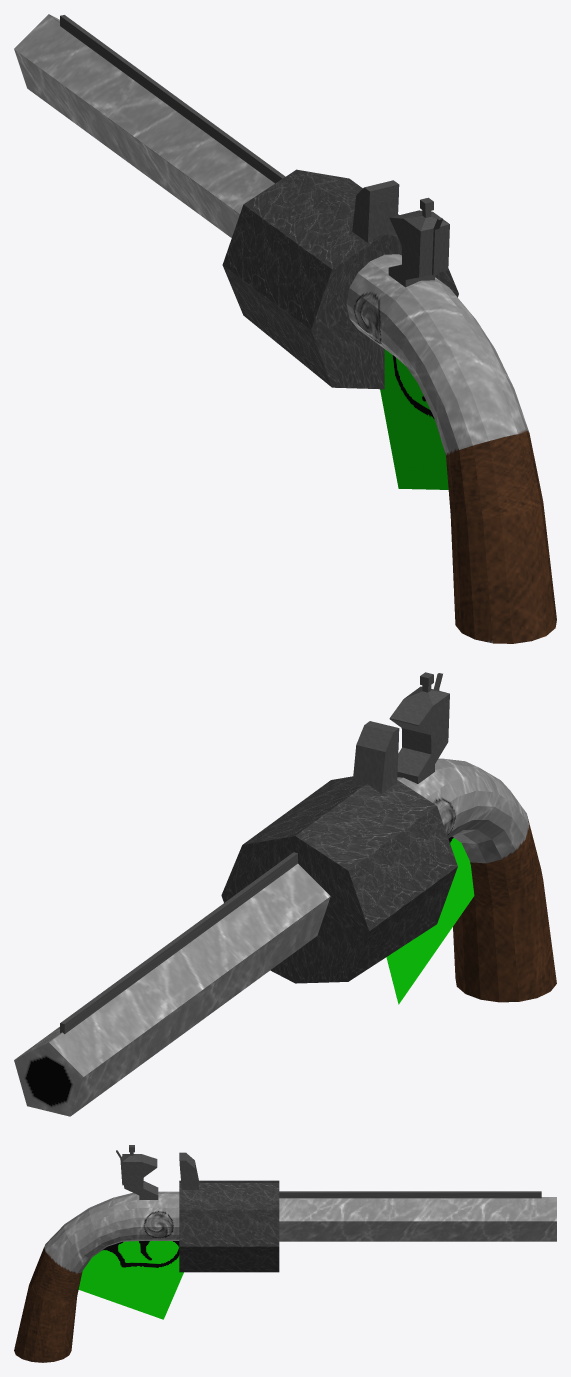
File: revolver.obj
3 renders of one model, top to bottom at view 1: azimuth 30°, elevation 25°; view 2: azimuth 150°, elevation 25°; view 3: azimuth 270°, elevation 25°, orthographic. The views are drawn at different scales.
Parts seen in each view (by area): view 1: Cylinder, rBarrel_Cube.001, Cylinder.002, Cube.001_Cube.005, Cube.003_Cube.004, Cube_Cube.001, Cube.002_Cube.003; view 2: rBarrel_Cube.001, Cylinder.002, Cylinder, Cube.003_Cube.004, Cube.001_Cube.005, Cube_Cube.001, Plane.001, Cube.002_Cube.003; view 3: Cylinder.002, Cylinder, rBarrel_Cube.001, Cube.001_Cube.005, Cube_Cube.001, Cube.003_Cube.004, Cube.002_Cube.003.
Boxes of the visible parts, x1=… form: Cylinder: x1=346, y1=254, x2=556, y2=643; rBarrel_Cube.001: x1=222, y1=169, x2=458, y2=389; Cylinder.002: x1=14, y1=14, x2=274, y2=237; Cube.001_Cube.005: x1=380, y1=349, x2=448, y2=489; Cube.003_Cube.004: x1=388, y1=197, x2=449, y2=287; Cube_Cube.001: x1=60, y1=15, x2=285, y2=183; Cube.002_Cube.003: x1=352, y1=180, x2=399, y2=242; rBarrel_Cube.001: x1=221, y1=776, x2=457, y2=983; Cylinder.002: x1=15, y1=864, x2=330, y2=1116; Cylinder: x1=397, y1=758, x2=556, y2=1002; Cube.003_Cube.004: x1=389, y1=672, x2=449, y2=783; Cube.001_Cube.005: x1=386, y1=836, x2=474, y2=1004; Cube_Cube.001: x1=60, y1=852, x2=297, y2=1034; Plane.001: x1=14, y1=1042, x2=83, y2=1116; Cube.002_Cube.003: x1=352, y1=721, x2=399, y2=793; Cylinder.002: x1=279, y1=1197, x2=556, y2=1241; Cylinder: x1=14, y1=1191, x2=179, y2=1362; rBarrel_Cube.001: x1=179, y1=1180, x2=279, y2=1272; Cube.001_Cube.005: x1=78, y1=1241, x2=183, y2=1319; Cube_Cube.001: x1=279, y1=1191, x2=541, y2=1198; Cube.003_Cube.004: x1=116, y1=1145, x2=158, y2=1199; Cube.002_Cube.003: x1=179, y1=1152, x2=199, y2=1189.
Size of the model in its own units: 2.02 by 4.75 by 11.43.
